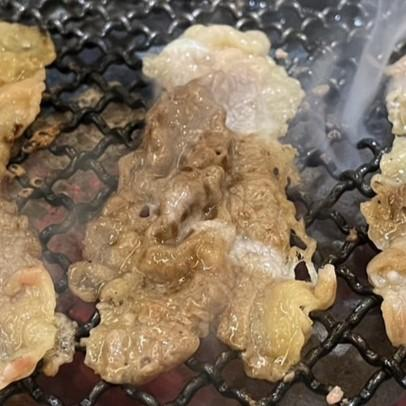Well-Cooked: (68, 25, 334, 384), (0, 22, 58, 389), (360, 136, 405, 361), (385, 55, 405, 135)
